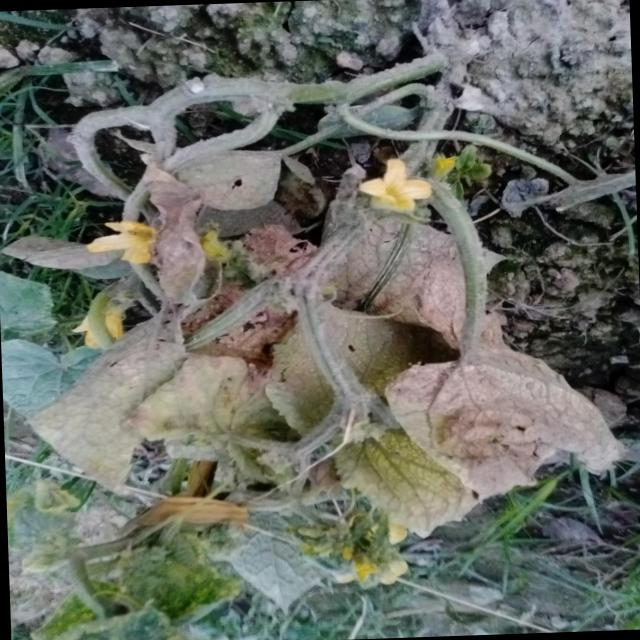cucumber_bacterial: (386, 318, 634, 492), (0, 277, 177, 501), (287, 172, 500, 344), (140, 326, 274, 516), (216, 496, 383, 626), (128, 126, 288, 258)
